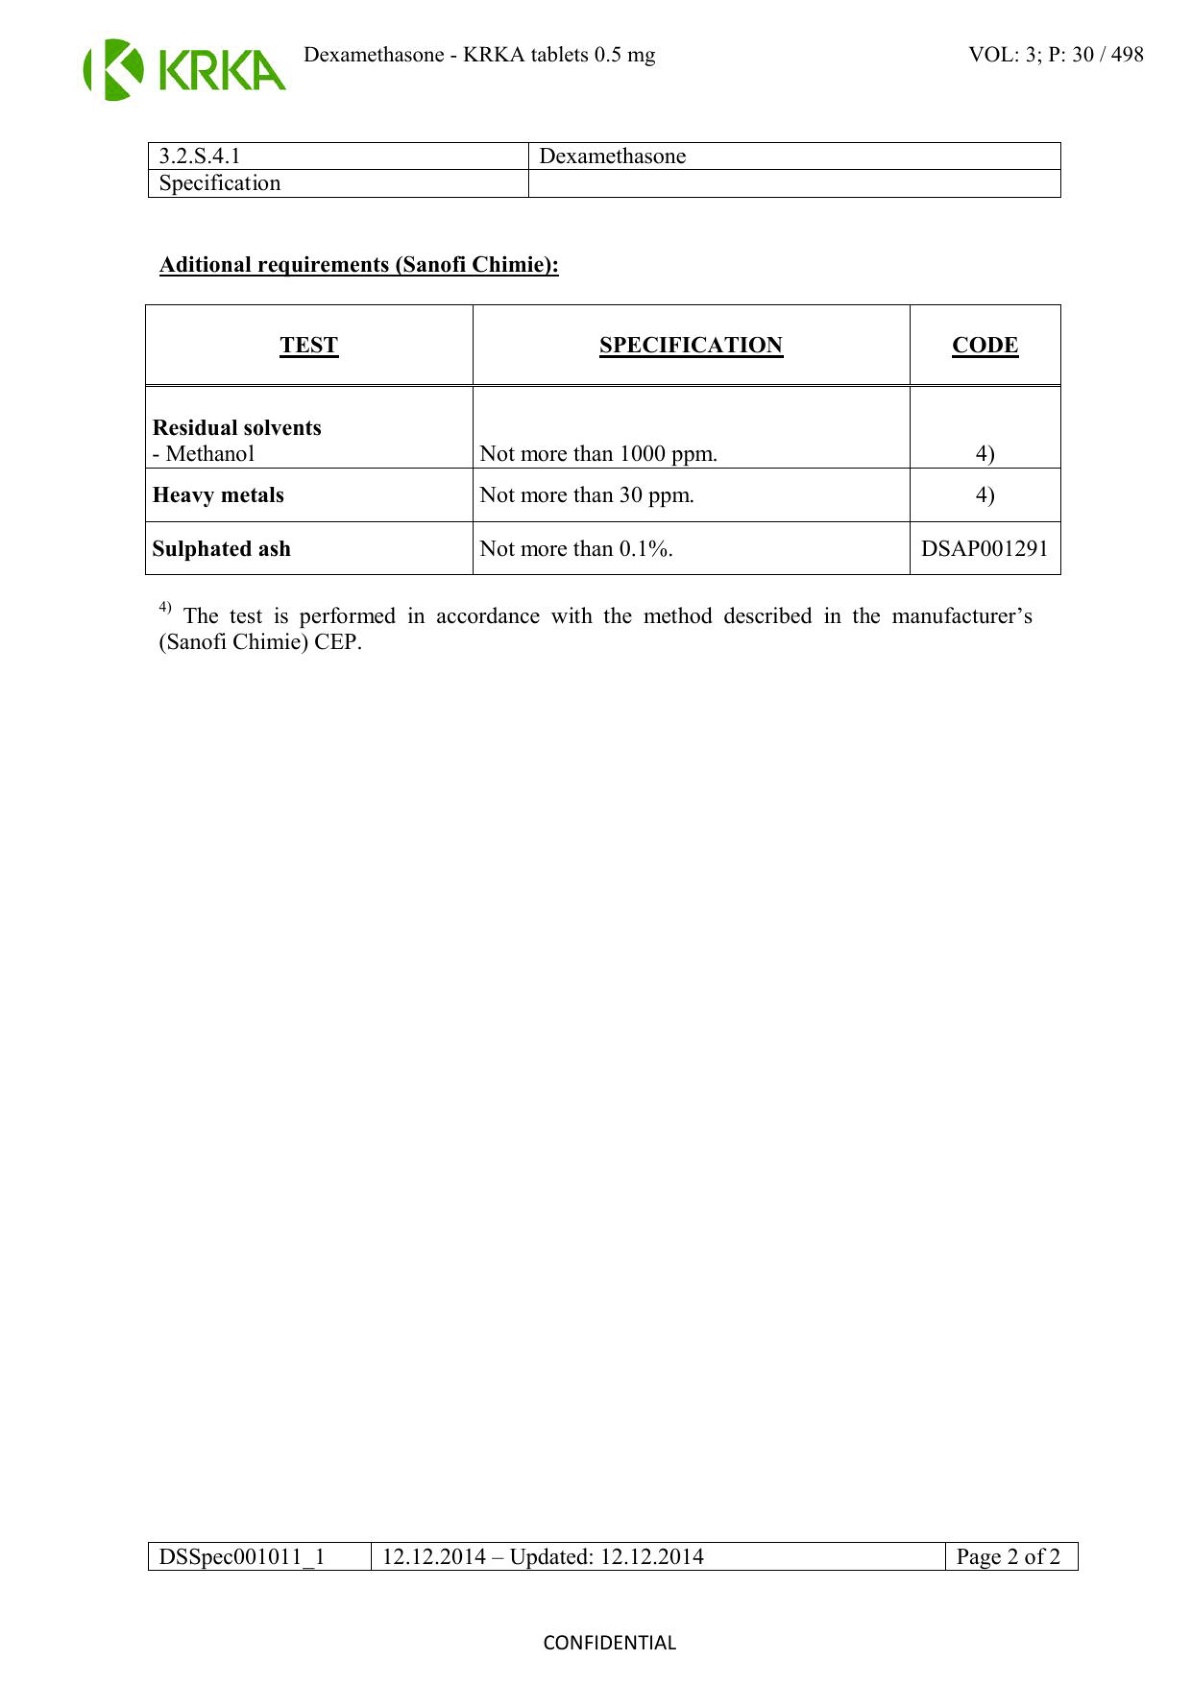full_lined: (143, 303, 1062, 576), (146, 142, 1063, 199), (147, 1542, 1078, 1571)
